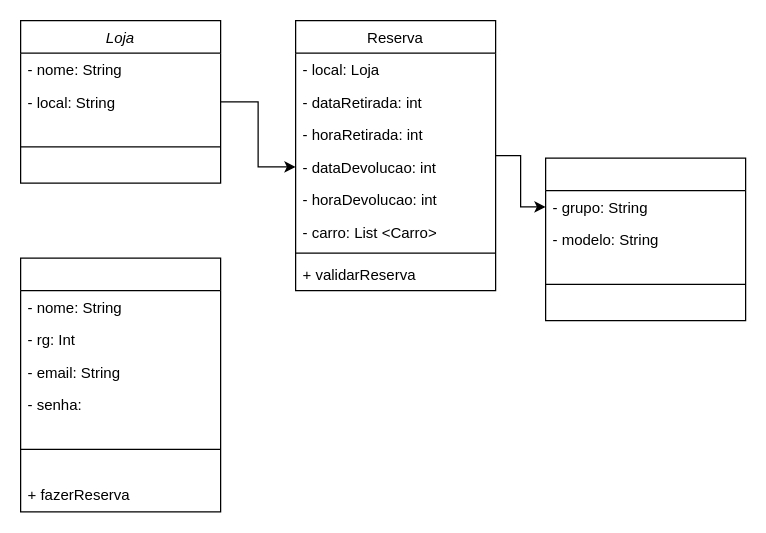
Image size: 766x533. Some labels were removed from this diagram. Here are the shapes that lost their labels. From the top down, the box of each, then its label:
(544, 157, 746, 321): Carro
(19, 257, 221, 512): Cliente
